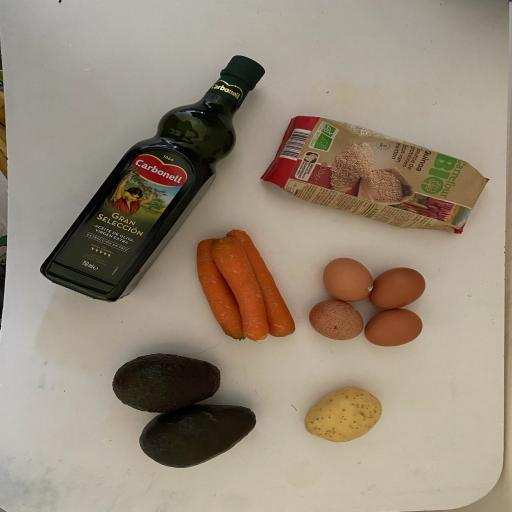avocado: (137, 400, 260, 472), (111, 350, 224, 414)
carrot: (223, 226, 298, 340), (209, 232, 271, 343), (192, 233, 246, 344)
egg: (365, 264, 429, 311), (362, 306, 426, 349), (307, 298, 367, 342), (322, 256, 375, 303)
olive_oil: (36, 50, 268, 304)
potato: (299, 384, 386, 446)
quinoa: (258, 114, 492, 238)
